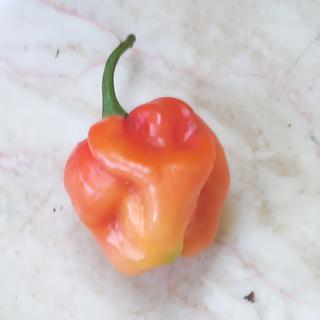Grade-B: (55, 92, 234, 275)
